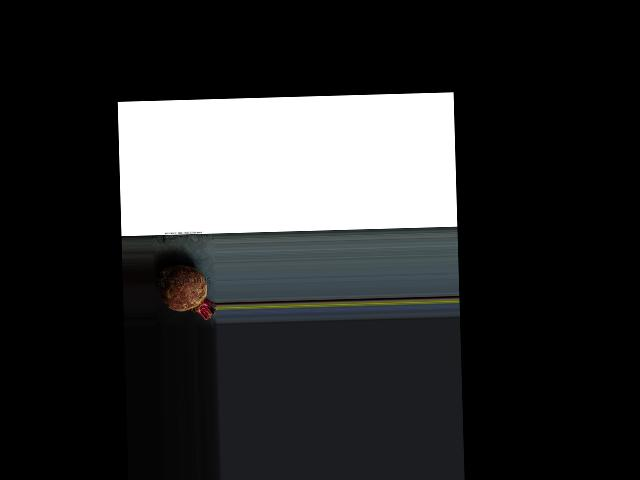beet: (158, 263, 216, 320)
